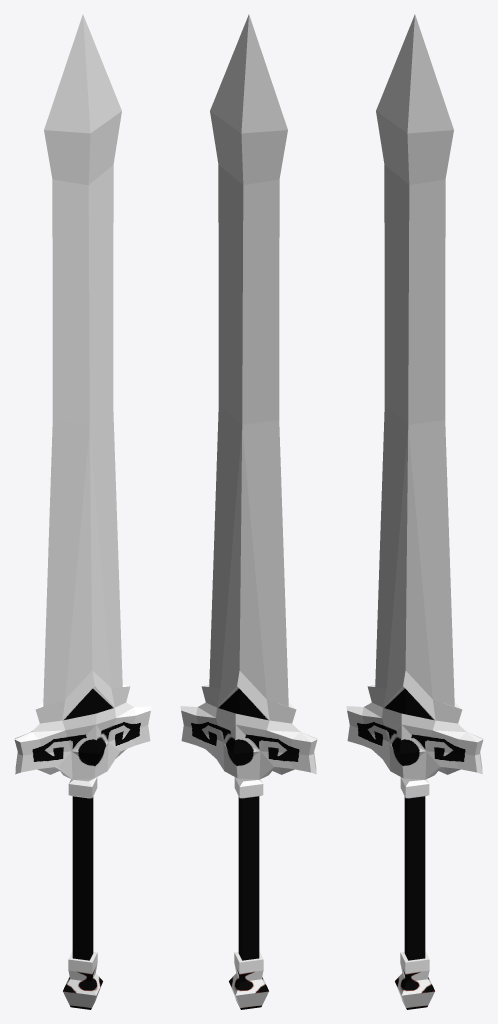
The model's file is 1001_wuqi_2.FBX.
3 renders of one model, left to right at view 1: azimuth 30°, elevation 25°; view 2: azimuth 150°, elevation 25°; view 3: azimuth 330°, elevation 25°, orthographic.
Visible parts, largest first — view 1: W1001_2; view 2: W1001_2; view 3: W1001_2.
Boxes of the visible parts, bbox=[...] form: W1001_2: bbox=[14, 14, 151, 1009]; W1001_2: bbox=[180, 14, 317, 1009]; W1001_2: bbox=[346, 14, 483, 1009].
Size of the model in its own units: 20.8 by 144 by 8.42.
